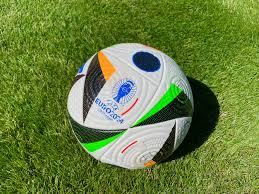football ball: (65, 43, 196, 172)
